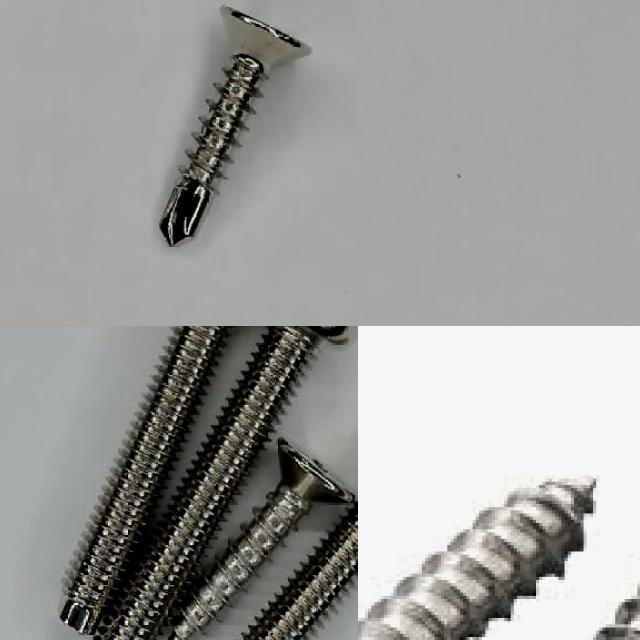Screw: (94, 326, 353, 640), (60, 326, 231, 635), (358, 479, 599, 640), (168, 438, 356, 640), (160, 5, 312, 245), (242, 501, 358, 640)
